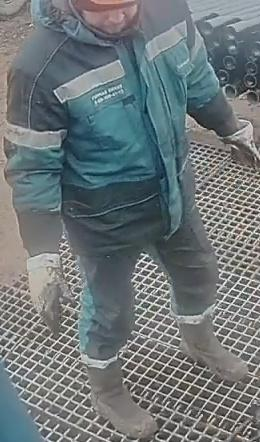gloves: (25, 252, 76, 337), (219, 118, 259, 171)
helmet: (72, 0, 143, 14)
vest: (18, 0, 205, 238)
